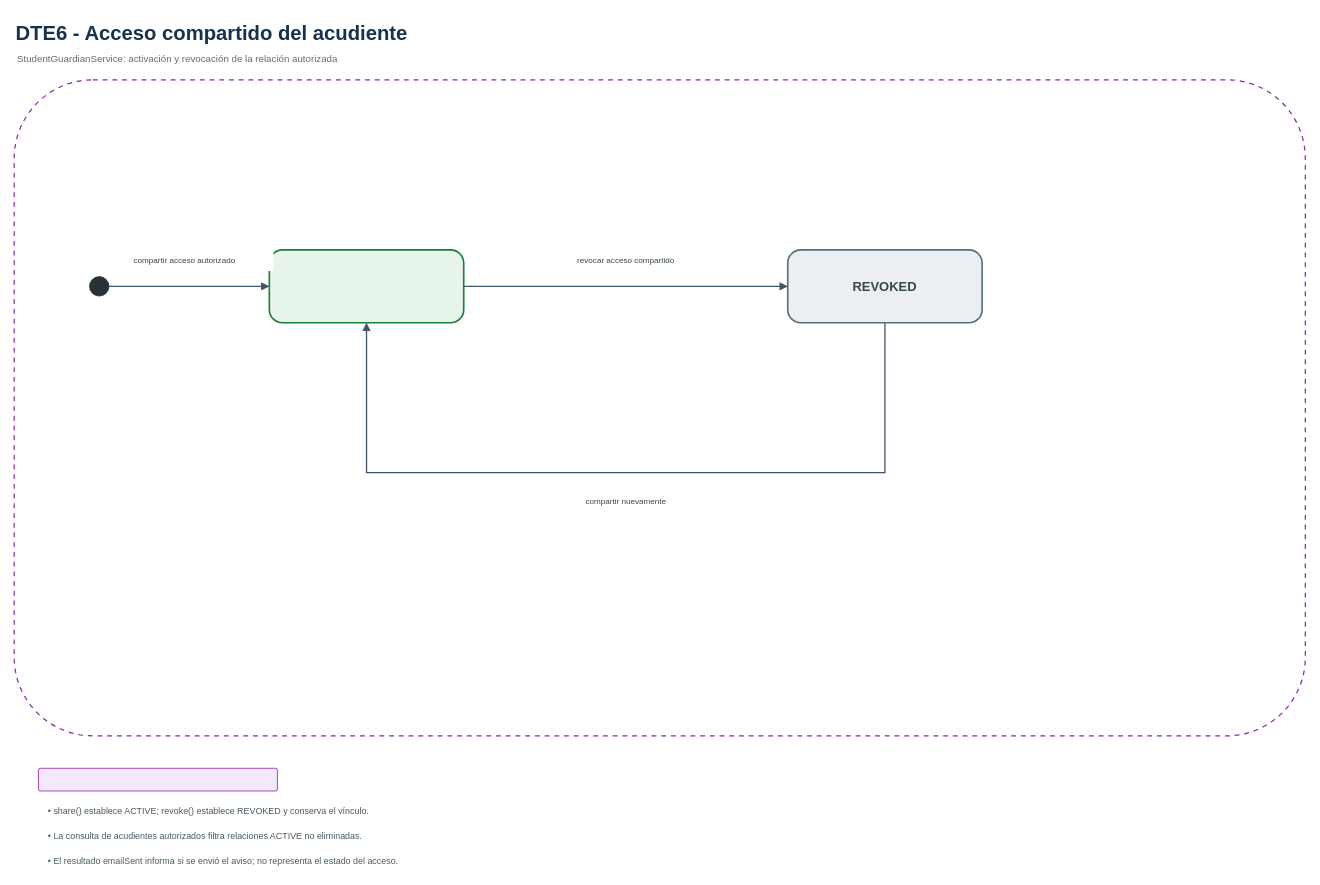
Image size: 1320x885. Some labels were removed from this diagram. The centre of each missing label's shape, as x and y in pixels:
"ACTIVE" belongs at pixel 366 286.
"Reglas y evidencia del modelo" belongs at pixel 157 779.
